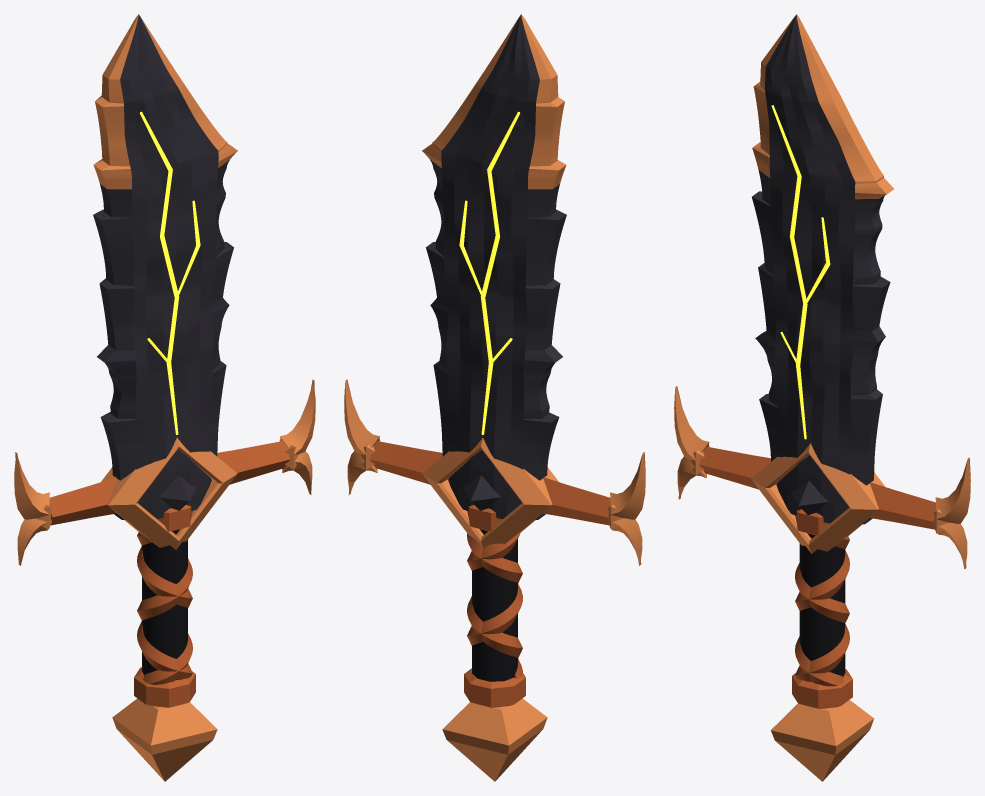
Rendered from EpeeCharbonBronze.fbx.
The picture shows the model from 3 angles, left to right: view 1: azimuth 30°, elevation 25°; view 2: azimuth 150°, elevation 25°; view 3: azimuth 330°, elevation 25°; orthographic projection.
Visible parts, largest first — view 1: Lame, Garde, Fil, Pommeau, Cadre, Embout, Tresse, Manche, Fissures, Gemme; view 2: Lame, Garde, Fil, Pommeau, Cadre, Embout, Tresse, Manche, Fissures, Gemme; view 3: Lame, Garde, Fil, Pommeau, Cadre, Embout, Manche, Tresse, Fissures, Gemme.
Part boxes in pixels (<box>): Lame: <box>93,14,233,519</box>; Garde: <box>49,441,290,707</box>; Fil: <box>93,14,237,189</box>; Pommeau: <box>112,698,217,781</box>; Cadre: <box>101,437,237,549</box>; Embout: <box>14,379,315,565</box>; Tresse: <box>137,532,192,684</box>; Manche: <box>142,529,187,679</box>; Fissures: <box>139,111,200,434</box>; Gemme: <box>158,475,195,510</box>; Lame: <box>426,14,566,519</box>; Garde: <box>369,441,610,707</box>; Fil: <box>422,14,566,189</box>; Pommeau: <box>442,698,547,781</box>; Cadre: <box>422,437,558,547</box>; Embout: <box>344,379,645,565</box>; Tresse: <box>467,532,522,678</box>; Manche: <box>472,529,517,681</box>; Fissures: <box>459,111,520,434</box>; Gemme: <box>464,475,501,510</box>; Lame: <box>752,14,890,524</box>; Garde: <box>699,446,936,708</box>; Fil: <box>752,14,893,199</box>; Pommeau: <box>770,700,874,781</box>; Cadre: <box>751,443,885,553</box>; Embout: <box>674,386,970,569</box>; Manche: <box>799,533,845,681</box>; Tresse: <box>795,536,849,686</box>; Fissures: <box>771,105,830,439</box>; Gemme: <box>792,480,828,515</box>.
Size of the model in its own units: 172 by 423 by 48.
